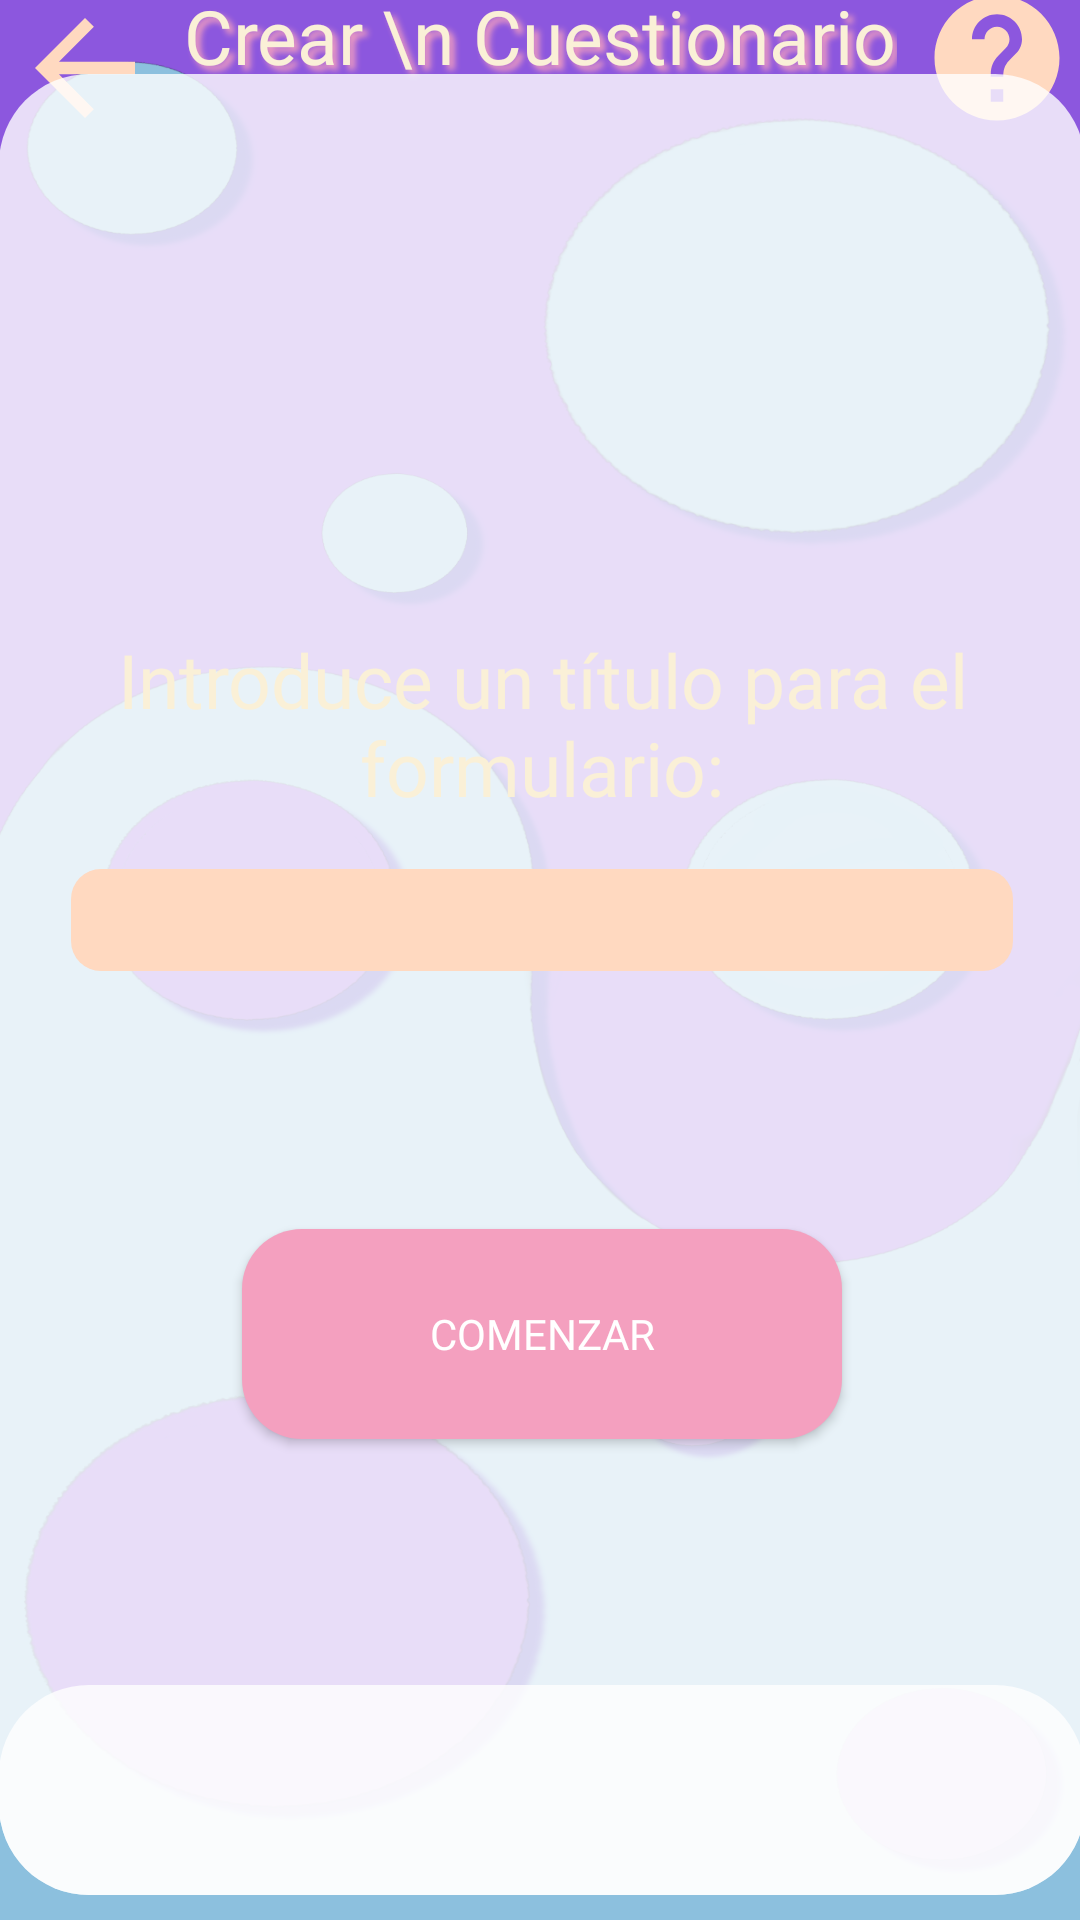

Where to tap for icons on this 1080 x 1920 app screen, as (x,y):
arrow back: (85,71)
